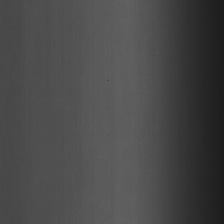inclusion: (105, 73, 110, 101), (106, 104, 110, 138)
